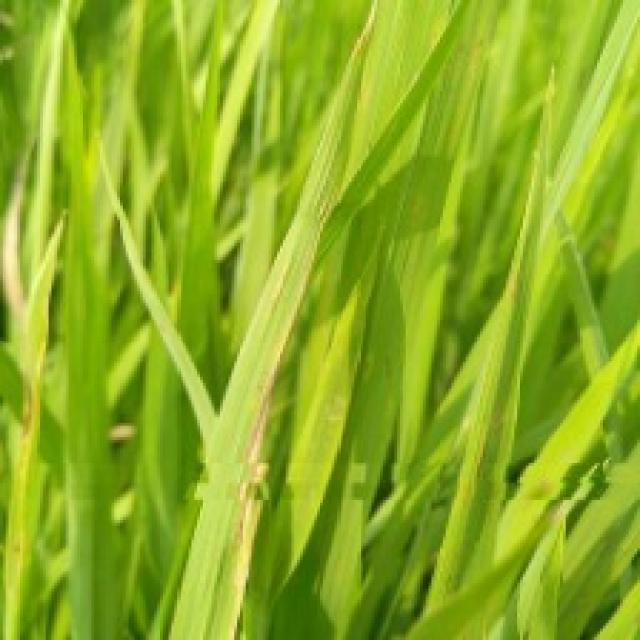Rice___Bacterial_Leaf_Blight: (165, 0, 378, 637)
